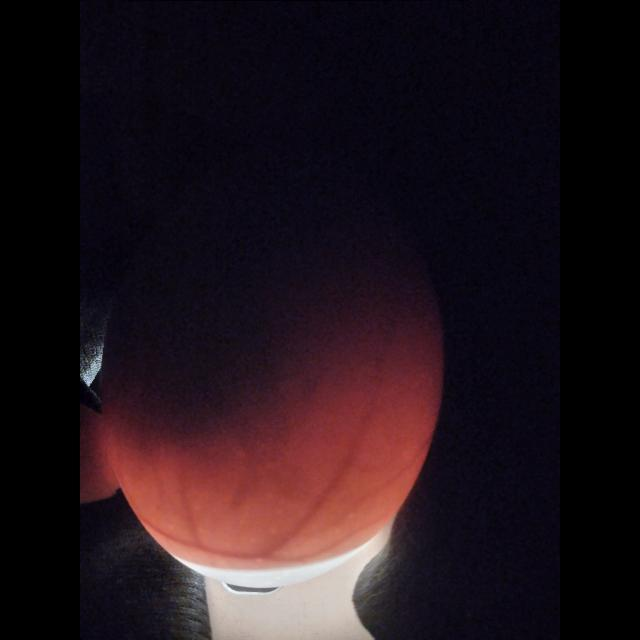Fertile: (104, 148, 438, 582)
